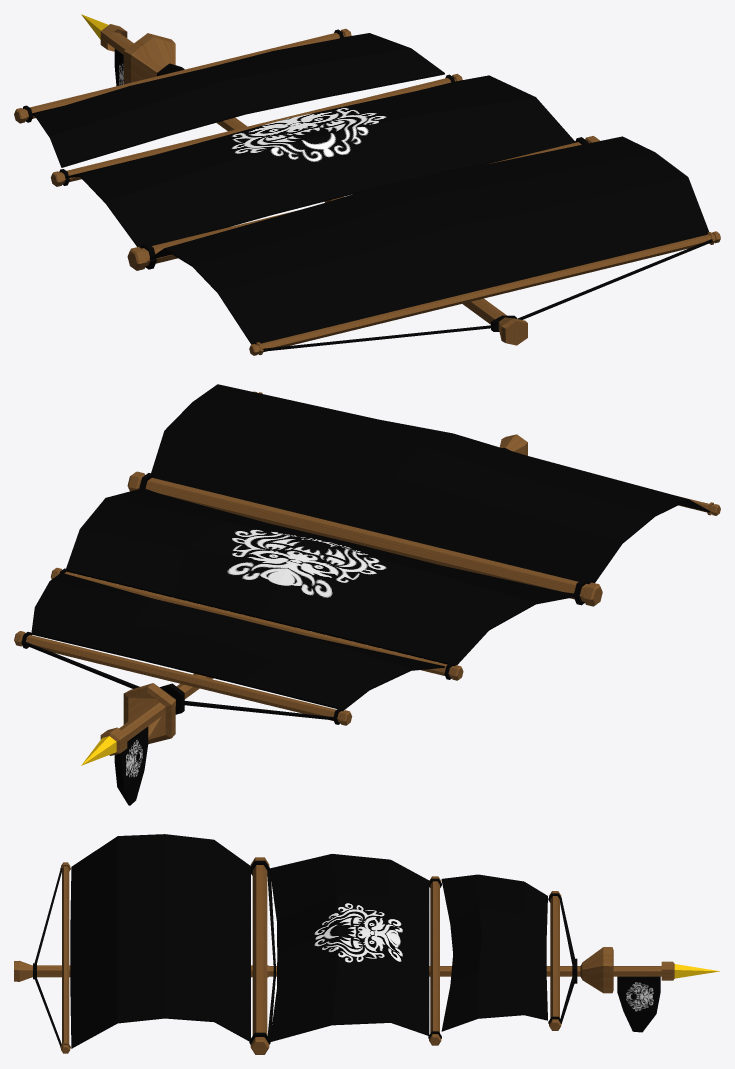
The model's file is sail_a_20.fbx.
3 renders of one model, top to bottom at view 1: azimuth 30°, elevation 25°; view 2: azimuth 150°, elevation 25°; view 3: azimuth 270°, elevation 25°, orthographic. The views are drawn at different scales.
Visible parts, largest first — view 1: Cube.077; view 2: Cube.077; view 3: Cube.077.
Boxes of the visible parts, x1,y1,x2,y2 form: Cube.077: [14, 14, 720, 355]; Cube.077: [14, 384, 720, 805]; Cube.077: [14, 834, 719, 1054].
Bounding box in the file's own units: 211 × 61.47 × 338.
